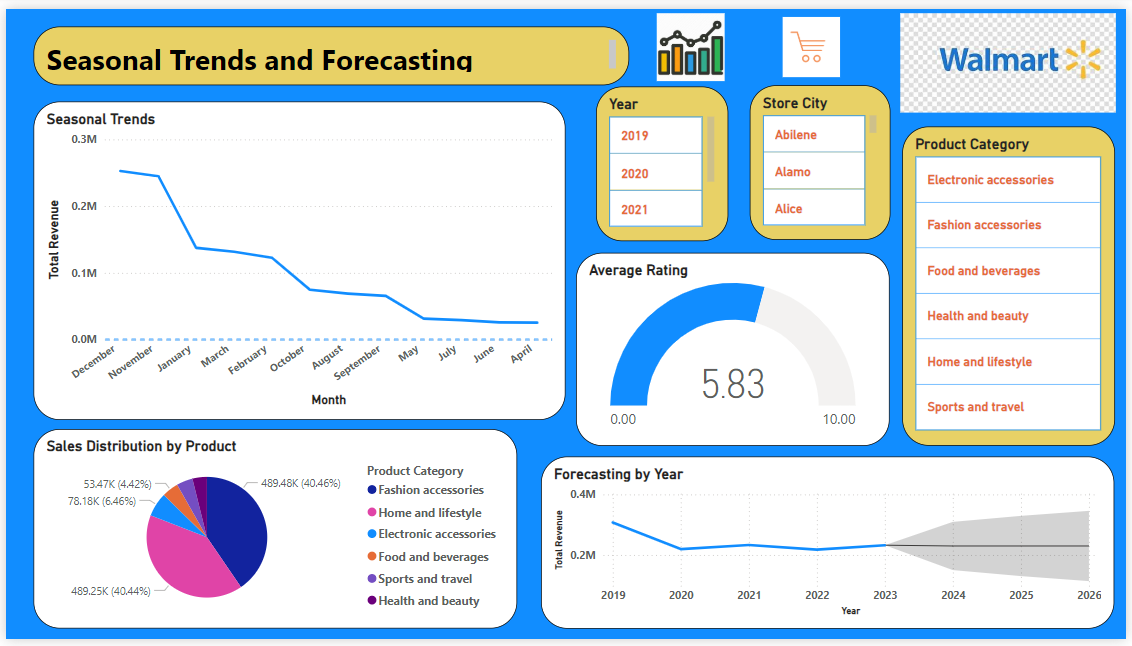

The dashboard page shown, as its layout file describes it:
{"tool":"powerbi","page":{"name":"Page 2","canvas":[1280,720],"ordinal":1},"visuals":[{"type":"lineChart","title":"Seasonal Trends","fields":{"Category":["walmart_clean_data.Month"],"Y":["walmart_clean_data.Total Revenue"]},"box":[31.6,105.7,607.9,363.6],"z":0},{"type":"pieChart","title":"Sales Distribution by Product","fields":{"Category":["walmart_clean_data.Product Category"],"Y":["walmart_clean_data.Total Revenue"]},"box":[31.6,480.3,553,227.8],"z":1000},{"type":"gauge","title":"Average Rating","fields":{"Y":["Avg(walmart_clean_data.Rating)"]},"box":[651.8,278.6,358.1,220.9],"z":2000},{"type":"lineChart","title":"Forecasting by Year","fields":{"Category":["walmart_clean_data.Transaction Date.Variation.Date Hierarchy.Year","walmart_clean_data.Transaction Date.Variation.Date Hierarchy.Quarter","walmart_clean_data.Transaction Date.Variation.Date Hierarchy.Month","walmart_clean_data.Transaction Date.Variation.Date Hierarchy.Day"],"Y":["walmart_clean_data.Total Revenue"]},"box":[611.7,511.7,655,196.7],"z":3000},{"type":"textbox","box":[31.6,20.6,680.6,67.2],"z":4000},{"type":"advancedSlicerVisual","fields":{"Values":["walmart_clean_data.Product Category"]},"box":[1023.7,134.5,242.9,365],"z":5000},{"type":"advancedSlicerVisual","fields":{"Values":["walmart_clean_data.Year"]},"box":[673.8,89.2,150.9,177],"z":6000},{"type":"advancedSlicerVisual","fields":{"Values":["walmart_clean_data.Store City"]},"box":[849.4,87.8,160.5,177],"z":7000},{"type":"image","box":[716.2,0,133.8,87.5],"z":8000},{"type":"image","box":[1010,0,270.3,123.5],"z":9000},{"type":"image","box":[849.4,4.1,141.3,78.2],"z":10000}]}

Visuals, with their boxes in screenshot pixels (x1, y1, x2, y2), scaled from the page's 1280x720 canvas onto the 1132x646 screenshot:
"Seasonal Trends" lineChart: select_region(28, 95, 566, 421)
"Sales Distribution by Product" pieChart: select_region(28, 431, 517, 635)
"Average Rating" gauge: select_region(576, 250, 893, 448)
"Forecasting by Year" lineChart: select_region(541, 459, 1120, 636)
textbox: select_region(28, 18, 630, 79)
advancedSlicerVisual - walmart_clean_data.Product Category: select_region(905, 121, 1120, 448)
advancedSlicerVisual - walmart_clean_data.Year: select_region(596, 80, 729, 239)
advancedSlicerVisual - walmart_clean_data.Store City: select_region(751, 79, 893, 238)
image: select_region(633, 0, 752, 79)
image: select_region(893, 0, 1131, 111)
image: select_region(751, 4, 876, 74)
